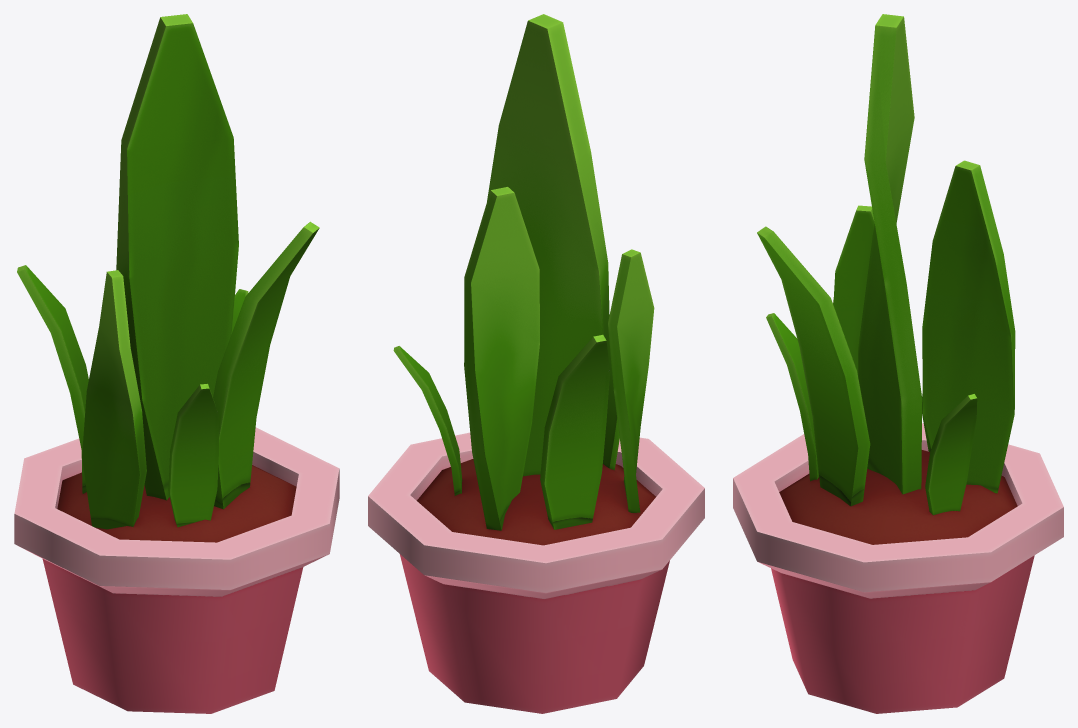
The model's file is cay1.fbx.
3 renders of one model, left to right at view 1: azimuth 30°, elevation 25°; view 2: azimuth 150°, elevation 25°; view 3: azimuth 270°, elevation 25°, orthographic.
Parts seen in each view (by area): view 1: cay5_; view 2: cay5_; view 3: cay5_.
Part boxes in pixels (bbox=[...]): cay5_: bbox=[14, 14, 339, 713]; cay5_: bbox=[368, 14, 704, 713]; cay5_: bbox=[733, 14, 1063, 713].
Bounding box in the file's own units: 62.17 × 134 × 62.17.
Materials: 1 (1 with a texture image).
